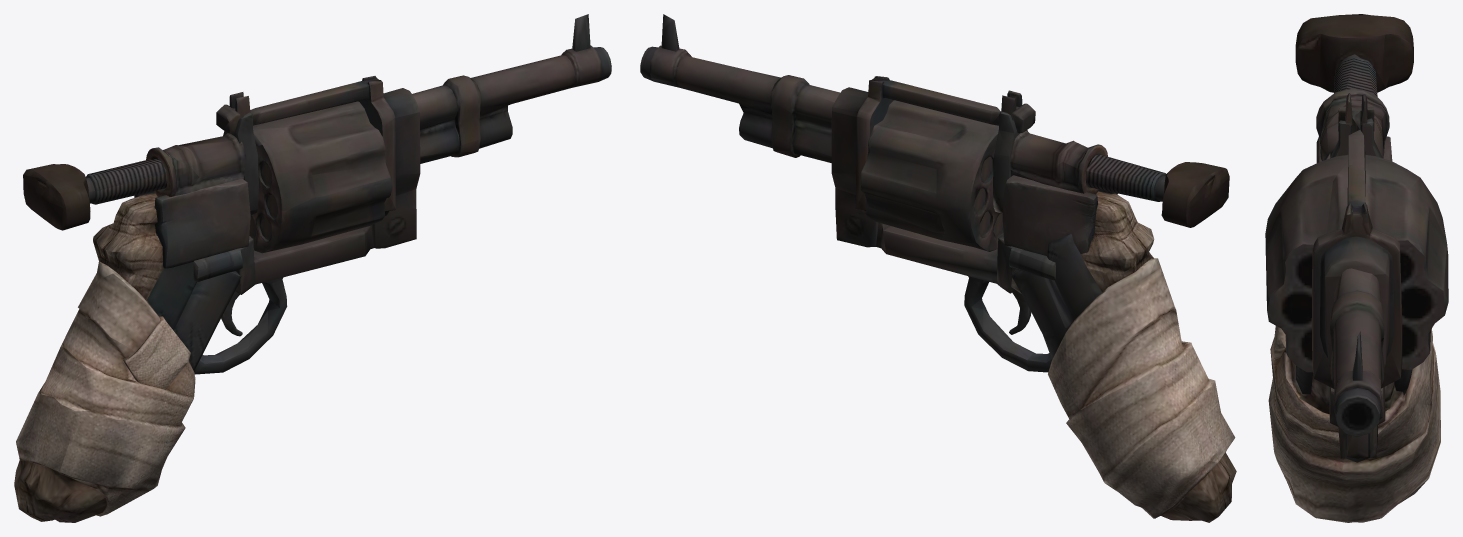
Rendered from revolver_static.glb.
3 views of the same model, side by side, from view 1: azimuth 30°, elevation 25°; view 2: azimuth 150°, elevation 25°; view 3: azimuth 270°, elevation 25° (orthographic). The views are drawn at different scales.
Parts seen in each view (by area): view 1: revolver_static; view 2: revolver_static; view 3: revolver_static.
Part boxes in pixels (x1=…): revolver_static: x1=14, y1=14, x2=611, y2=522; revolver_static: x1=640, y1=14, x2=1236, y2=522; revolver_static: x1=1265, y1=14, x2=1448, y2=522.
Bounding box in the file's own units: 0.2816 × 0.1778 × 0.0561.
1 material, 1 textured.
